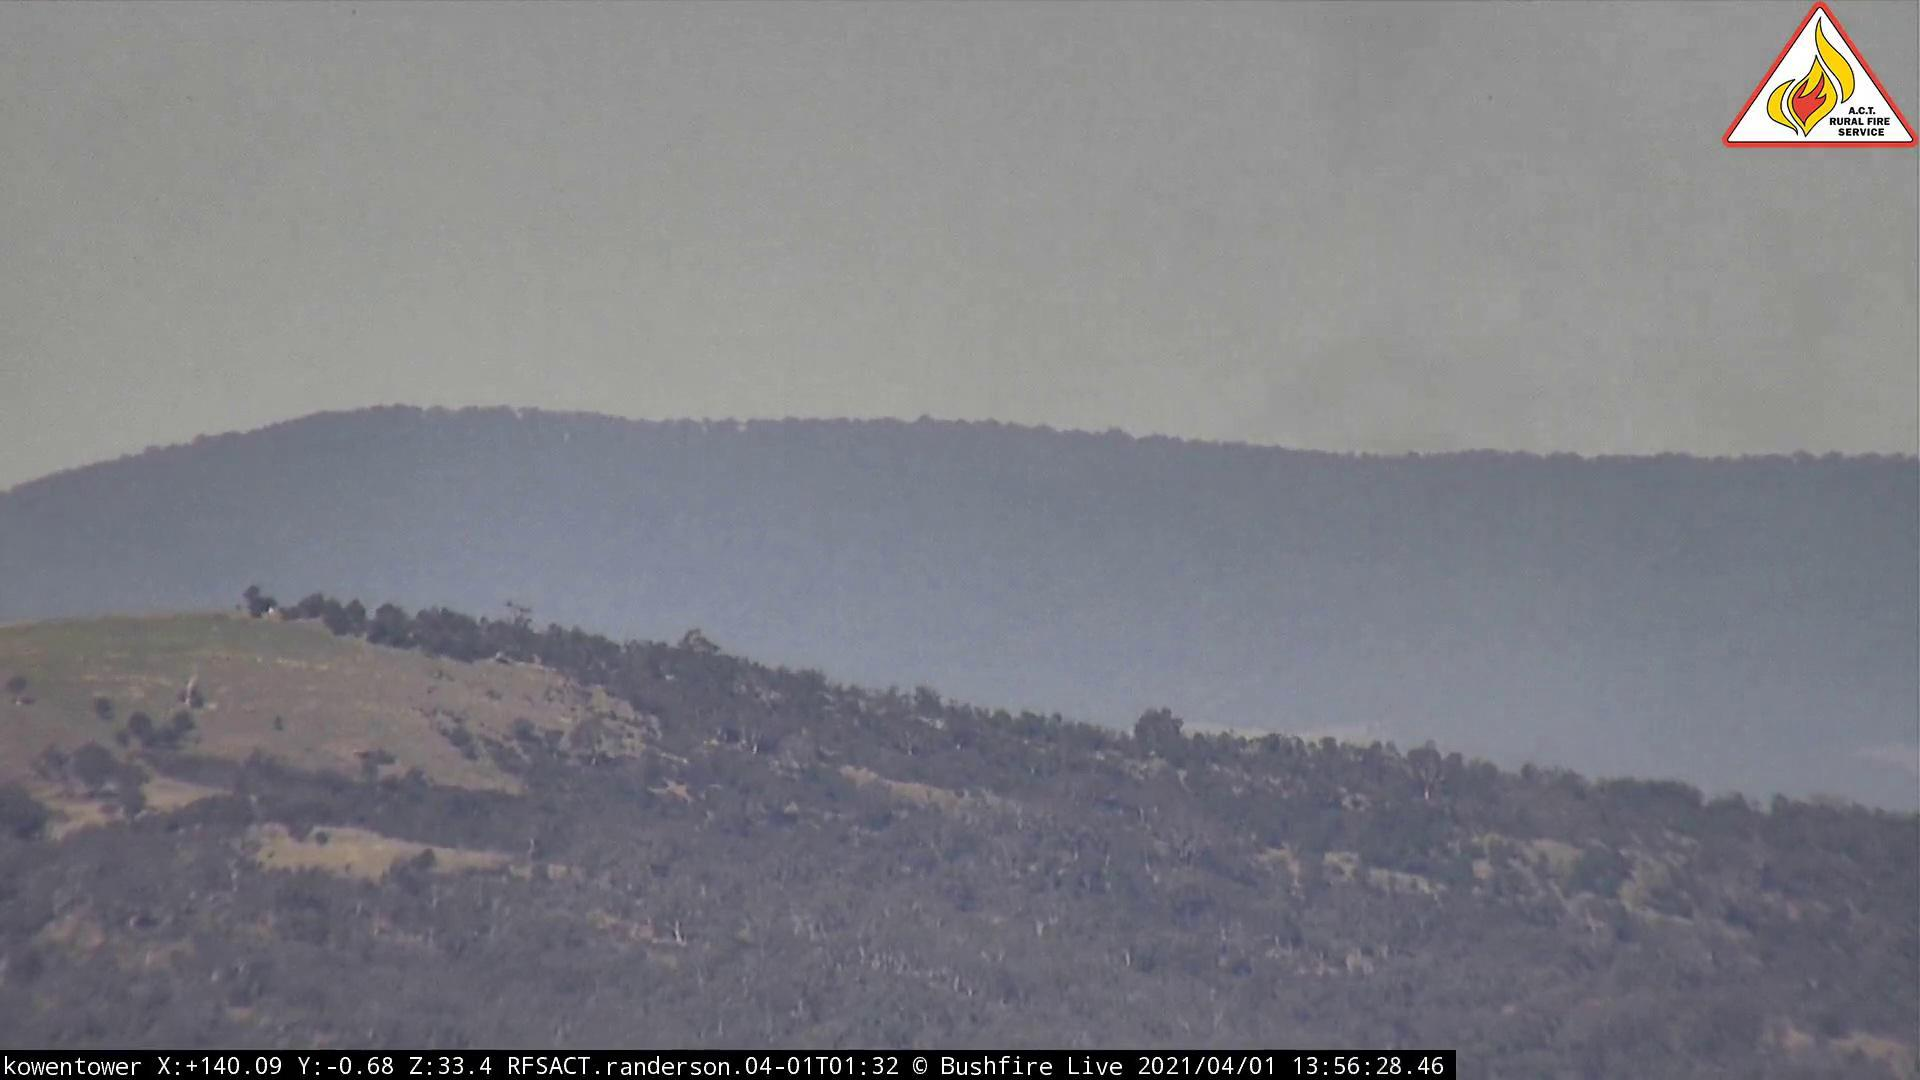Smoke: (1040, 220, 1596, 638)
